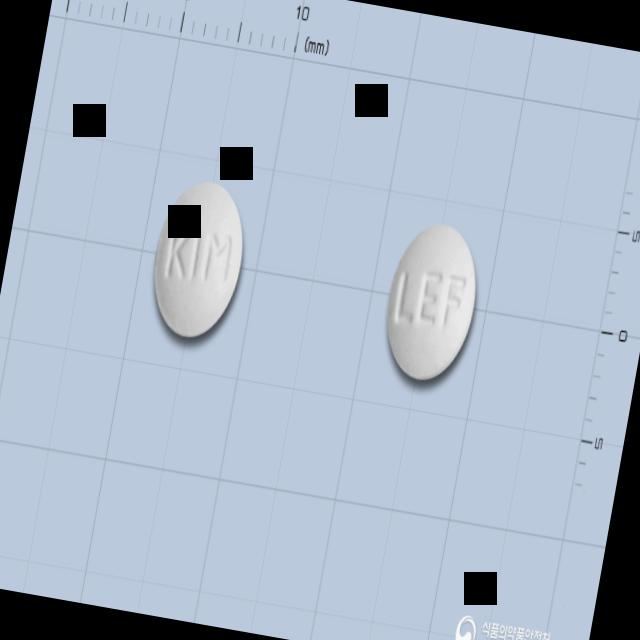Kimara - 20mg: (374, 214, 488, 386), (142, 174, 255, 344)
